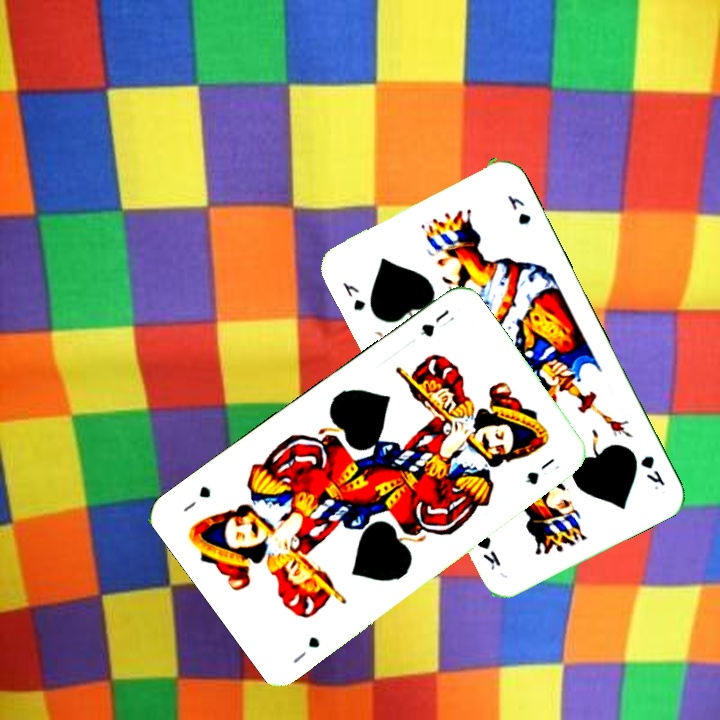GK: (636, 451, 668, 493), (338, 278, 368, 314)
GU: (415, 305, 458, 340), (289, 632, 323, 666)
